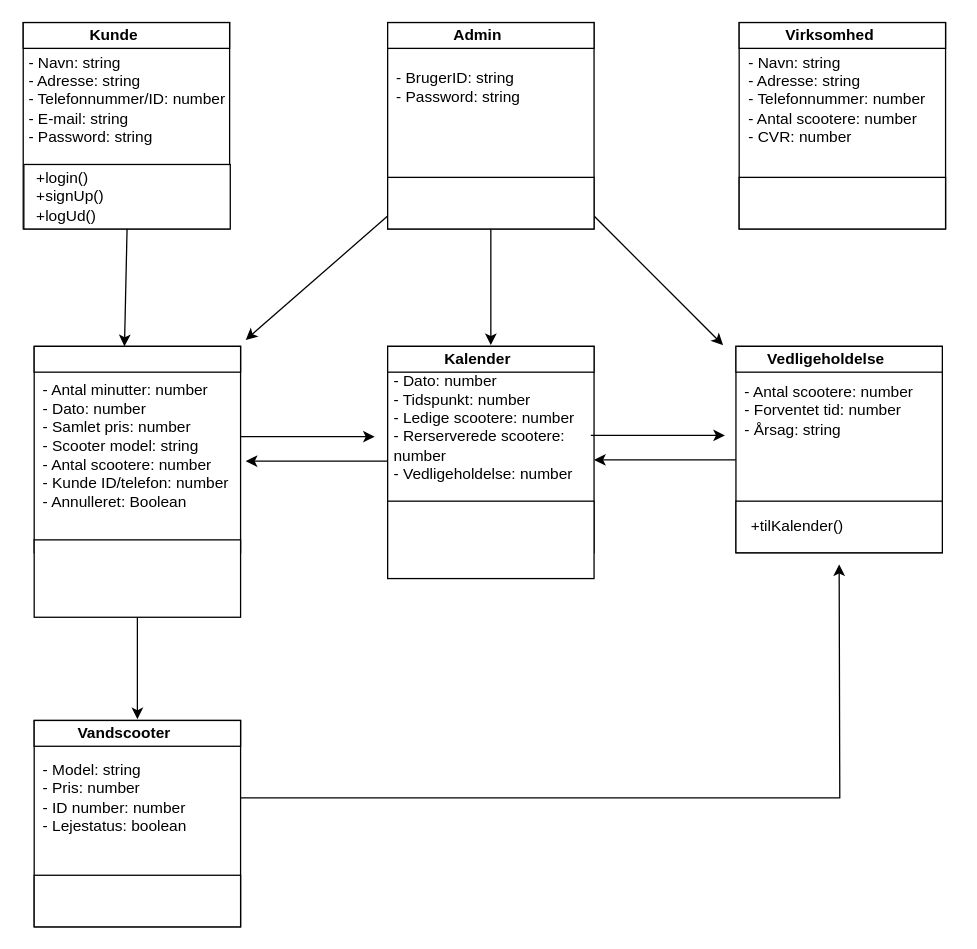
Image size: 977x949. Some labels were removed from this diagram. Each missing label, with the box of its shape:
+lejVandscooter() +bekræftOrdre() +annullerOrdre() +ændreOrdre(): (33, 539, 241, 617)
+login(): (386, 176, 594, 229)
+skiftLejestatus() +tilVedligeholdelse(): (386, 500, 594, 579)
Ordre: (33, 345, 241, 372)
